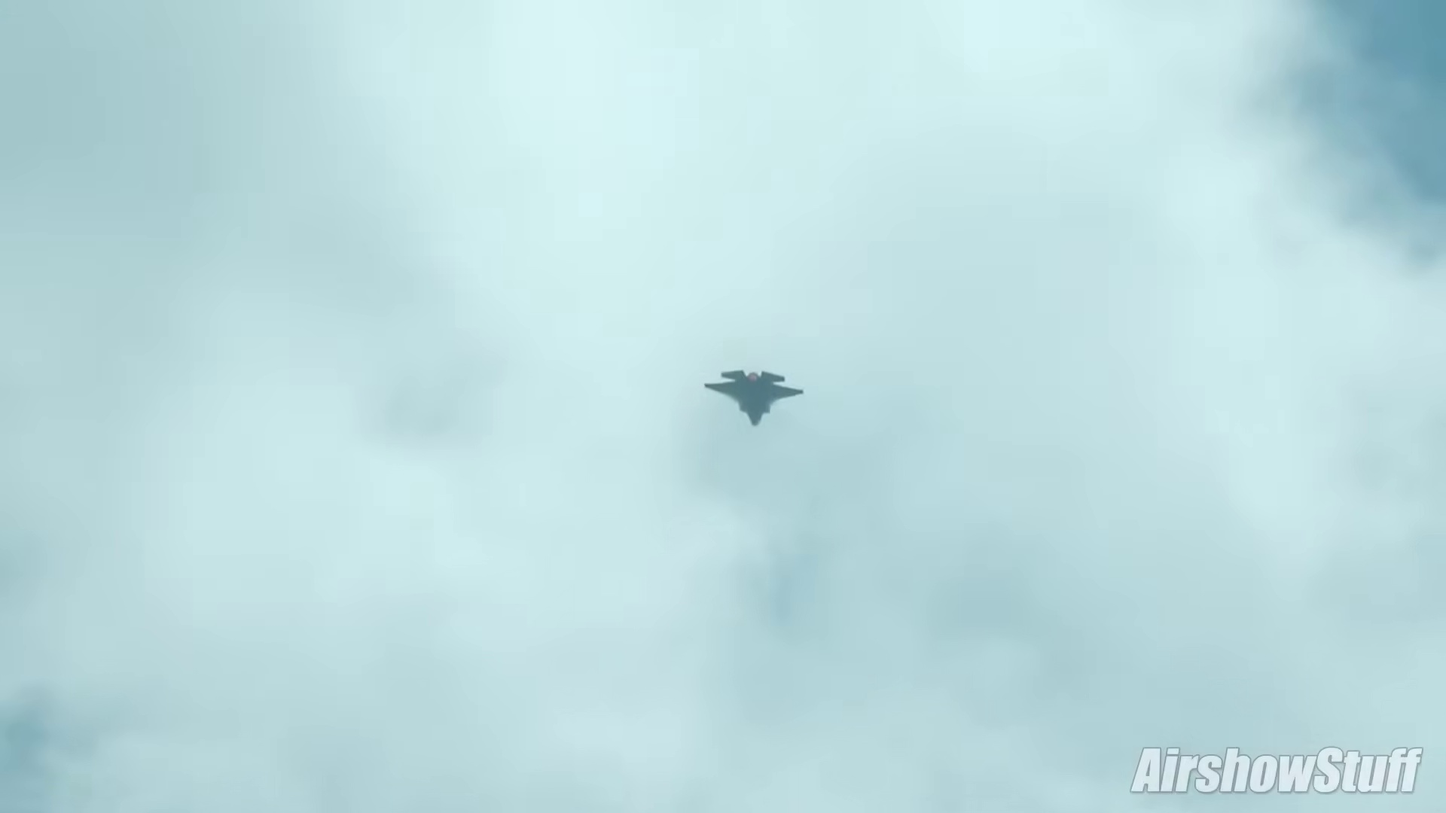F35: (702, 367, 809, 431)
